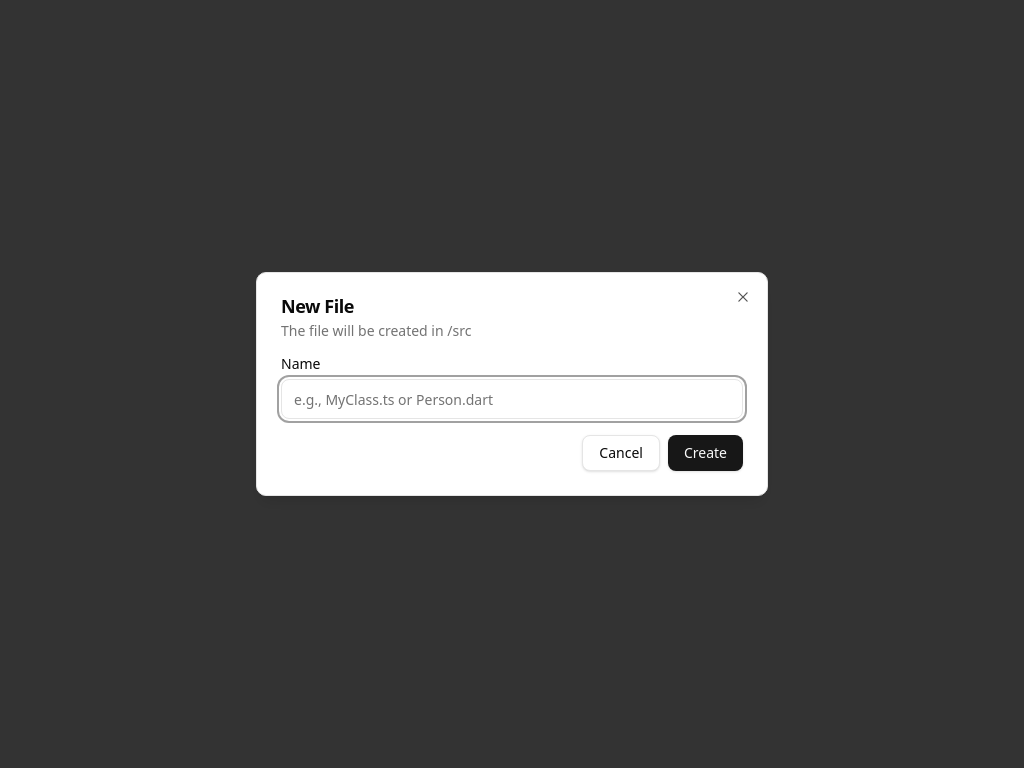
Test: Create File Integration › handles submission error gracefully
Type "newfile.ts" into the field at (512, 399), box [281,379,743,419]
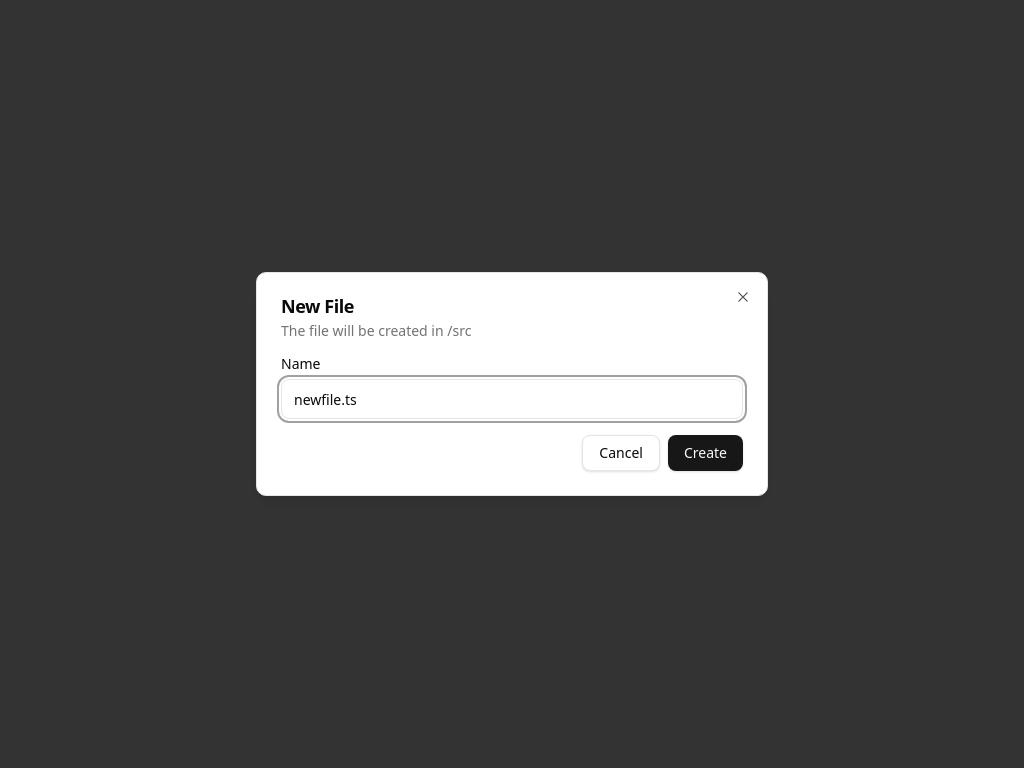
Click the button "Create" at (705, 453), box [668,435,743,471]
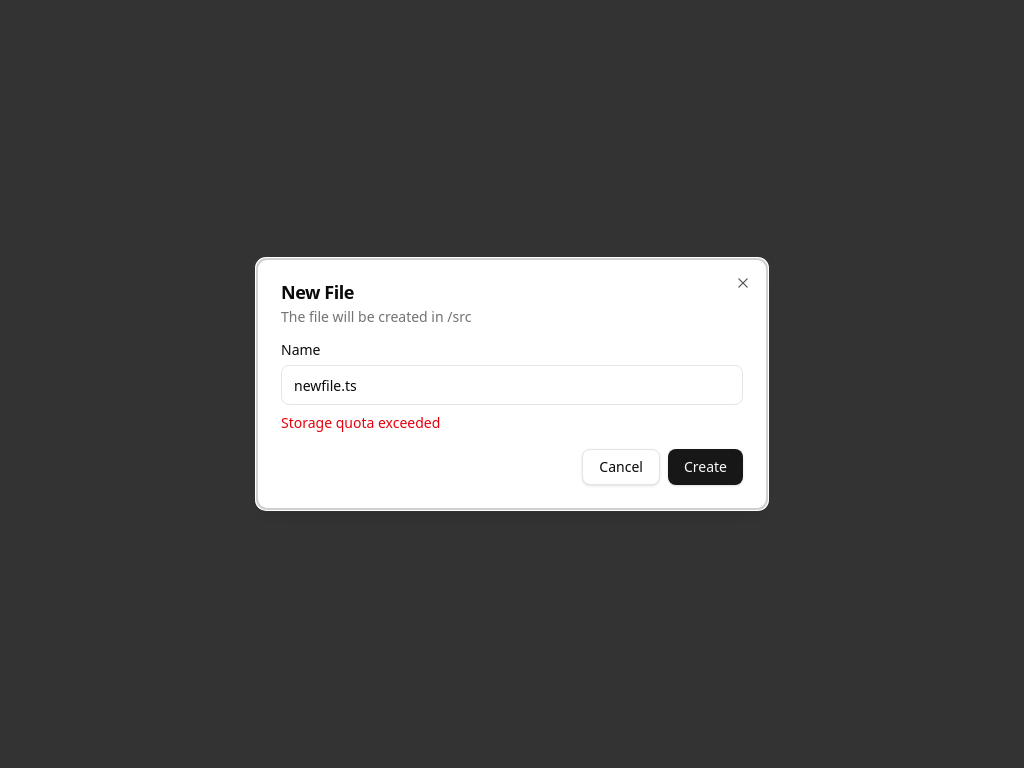
Expected: the text "Storage quota exceeded" is shown, [281,413,440,432]
